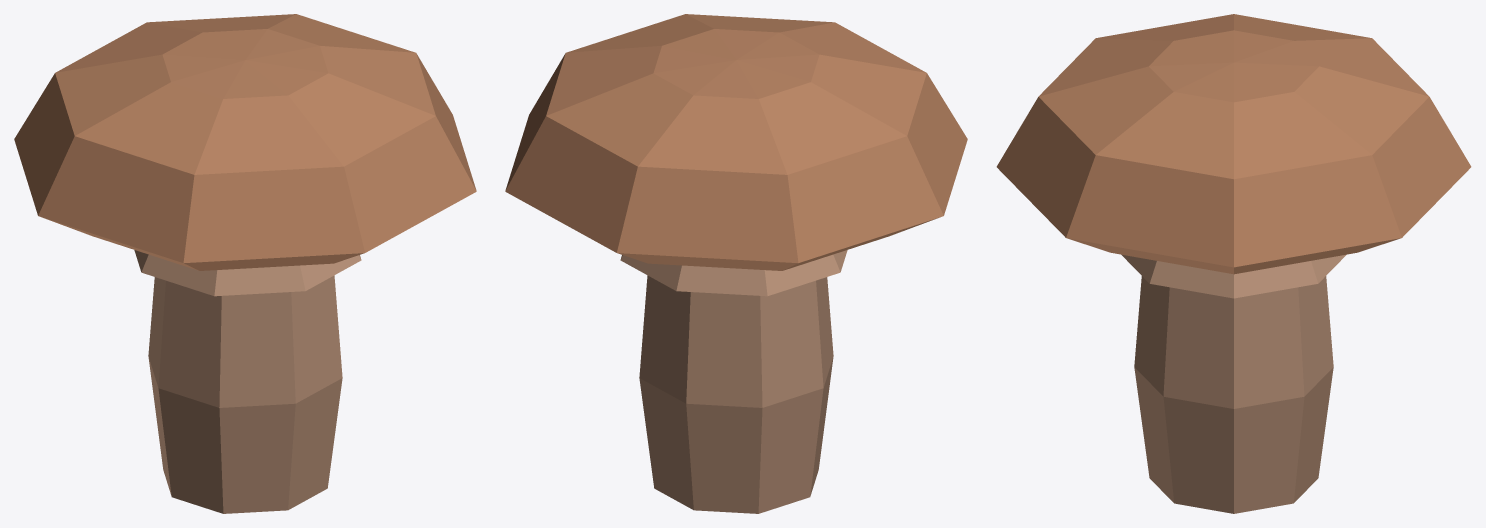
The model's file is Mushroom_04.fbx.
The picture shows the model from 3 angles, left to right: view 1: azimuth 30°, elevation 25°; view 2: azimuth 150°, elevation 25°; view 3: azimuth 270°, elevation 25°; orthographic projection.
Visible parts, largest first — view 1: Mushroom_04; view 2: Mushroom_04; view 3: Mushroom_04.
Part boxes in pixels (left/top/right/bottom): Mushroom_04: left=14, top=14, right=476, bottom=513; Mushroom_04: left=505, top=14, right=967, bottom=513; Mushroom_04: left=996, top=14, right=1471, bottom=513.
Bounding box in the file's own units: 60.03 × 57.95 × 60.03.
